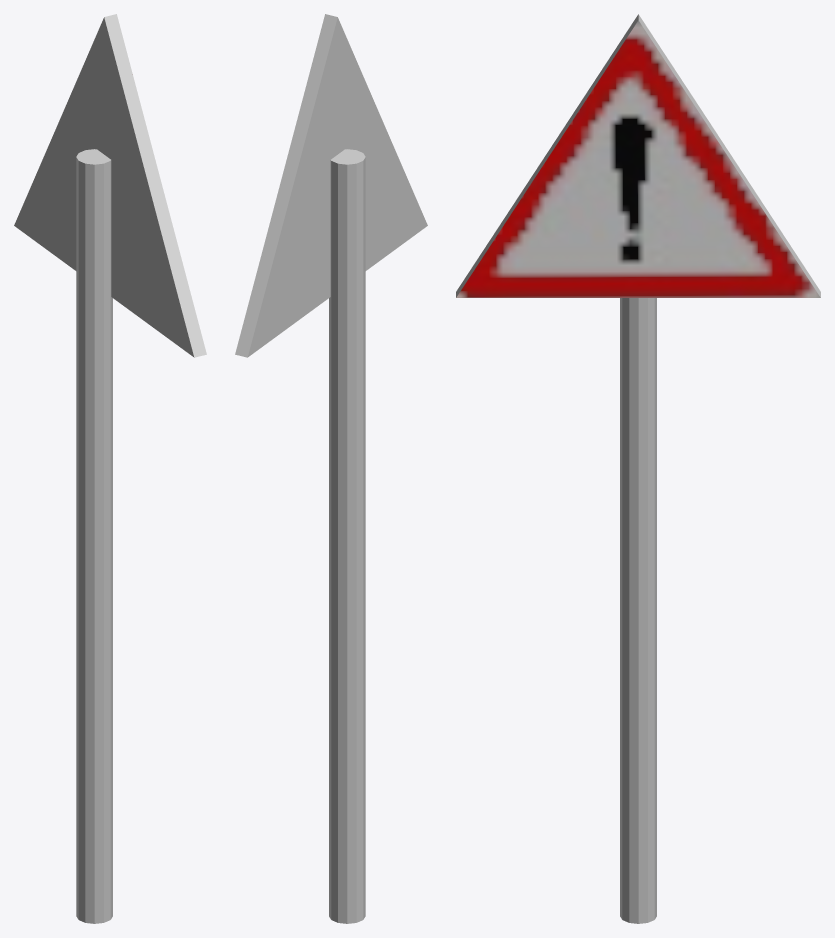
Rendered from aaaa.glb.
The picture shows the model from 3 angles, left to right: view 1: azimuth 30°, elevation 25°; view 2: azimuth 150°, elevation 25°; view 3: azimuth 270°, elevation 25°; orthographic projection.
Visible parts, largest first — view 1: Attention; view 2: Attention; view 3: Attention.
Boxes of the visible parts, left/top/right/bottom form: Attention: left=14, top=14, right=206, bottom=923; Attention: left=235, top=14, right=427, bottom=923; Attention: left=456, top=14, right=820, bottom=923.
Bounding box in the file's own units: 0.0659 × 1.48 × 0.5407.
Materials: 2 (1 with a texture image).
